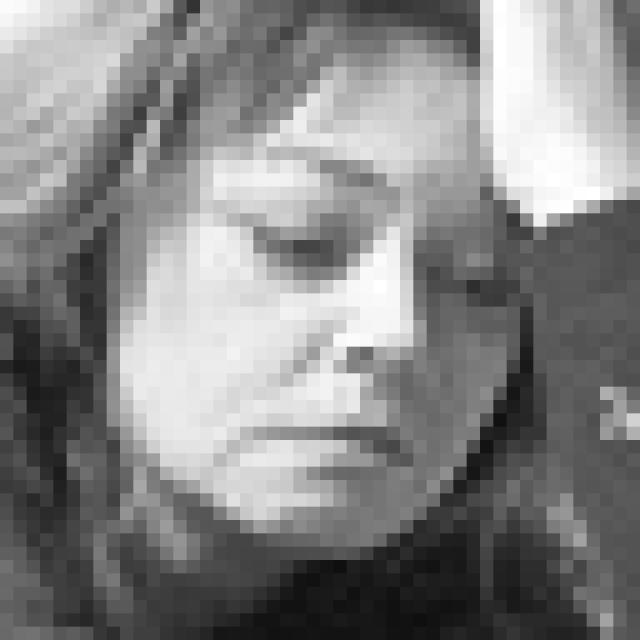sad: (217, 138, 513, 513)
